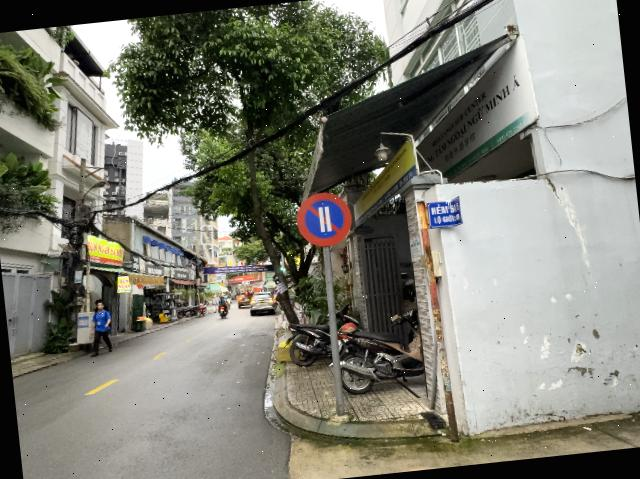cam-do-xe-ngay-chan: (295, 188, 354, 249)
